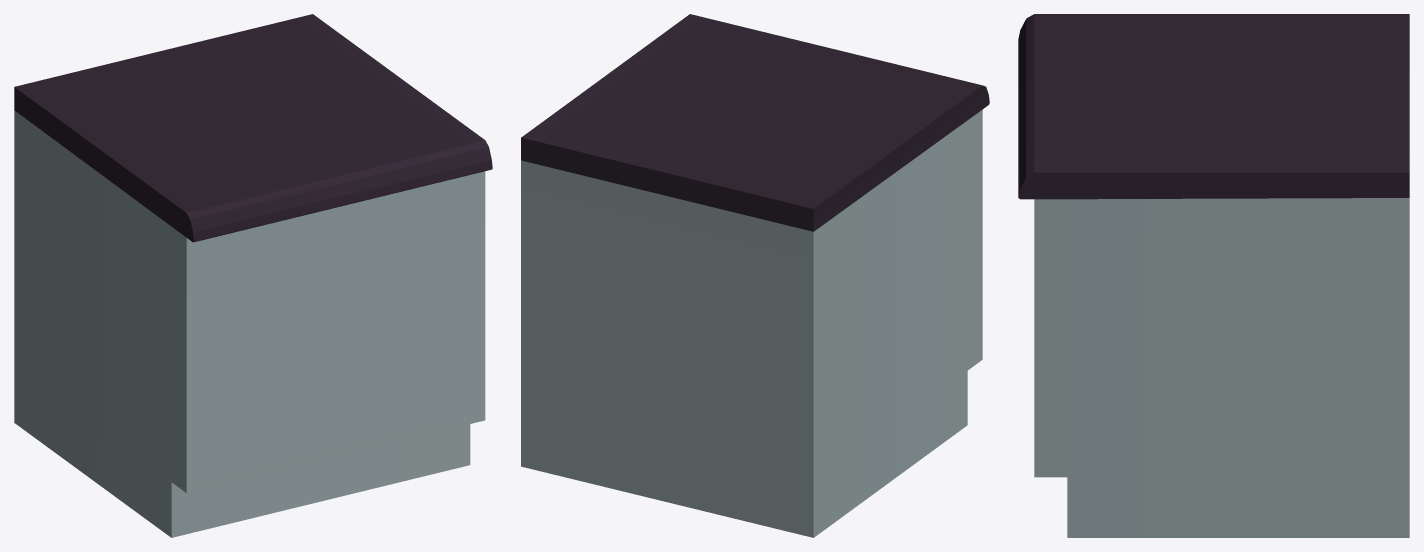
File: Counter.fbx
The picture shows the model from 3 angles, left to right: view 1: azimuth 30°, elevation 25°; view 2: azimuth 150°, elevation 25°; view 3: azimuth 270°, elevation 25°; orthographic projection. The views are drawn at different scales.
Parts seen in each view (by area): view 1: Counter; view 2: Counter; view 3: Counter.
Boxes of the visible parts, box(x1,y1,x2,y2) form: Counter: box(14, 14, 492, 537); Counter: box(521, 14, 989, 537); Counter: box(1018, 14, 1409, 537).
Size of the model in its own units: 300 by 322 by 313.
